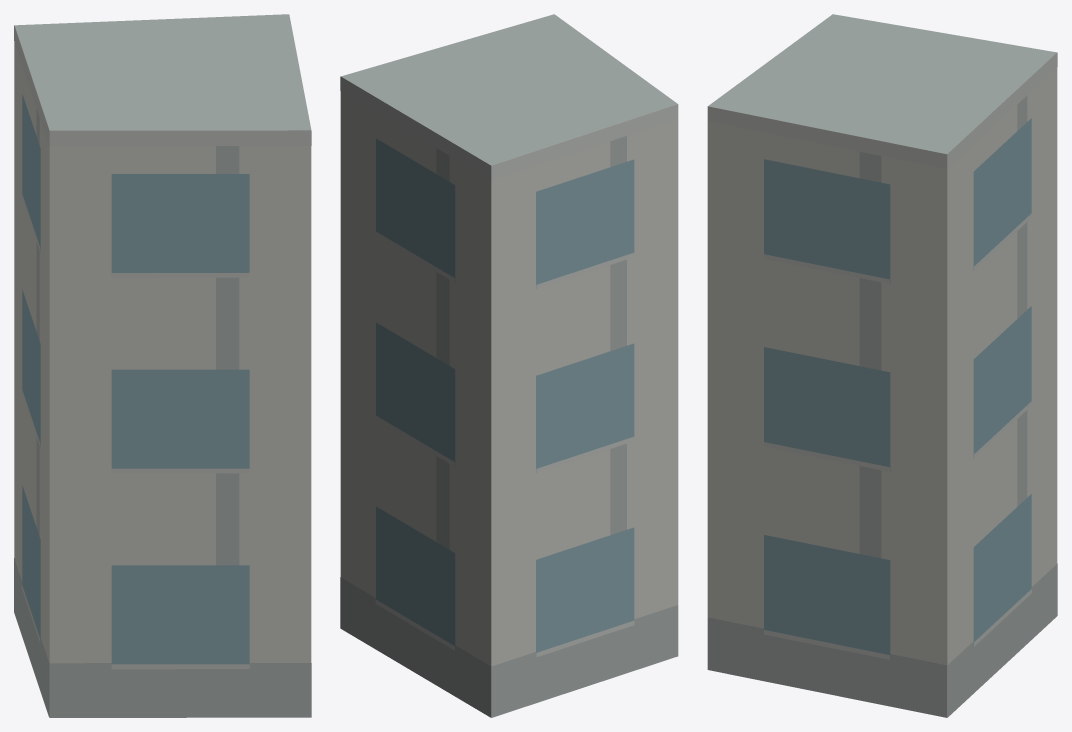
Rendered from survey-upis-32908878.glb.
3 renders of one model, left to right at view 1: azimuth 30°, elevation 25°; view 2: azimuth 150°, elevation 25°; view 3: azimuth 270°, elevation 25°, orthographic. The views are drawn at different scales.
Visible parts, largest first — view 1: survey-upis-32908878.tmp; view 2: survey-upis-32908878.tmp; view 3: survey-upis-32908878.tmp.
Boxes of the visible parts, <box> form: survey-upis-32908878.tmp: <box>14,14,311,717</box>; survey-upis-32908878.tmp: <box>340,14,678,717</box>; survey-upis-32908878.tmp: <box>707,14,1057,717</box>.
Size of the model in its own units: 4.89 by 9.15 by 5.15.
